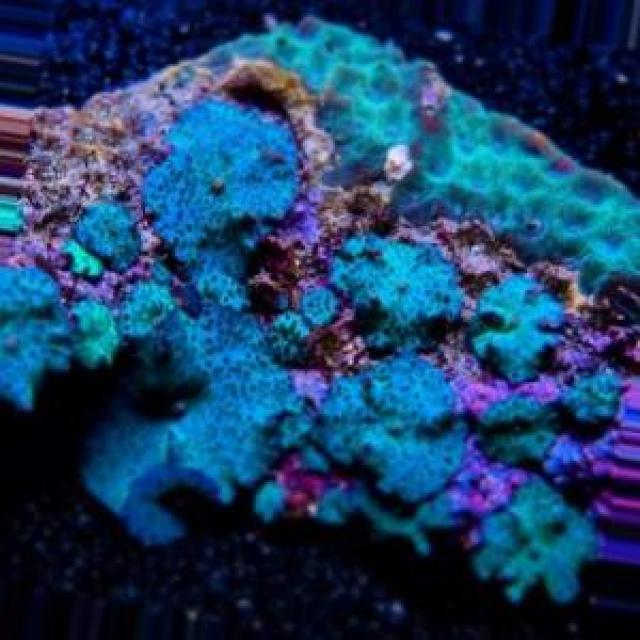healthy coral: (18, 18, 640, 603)
